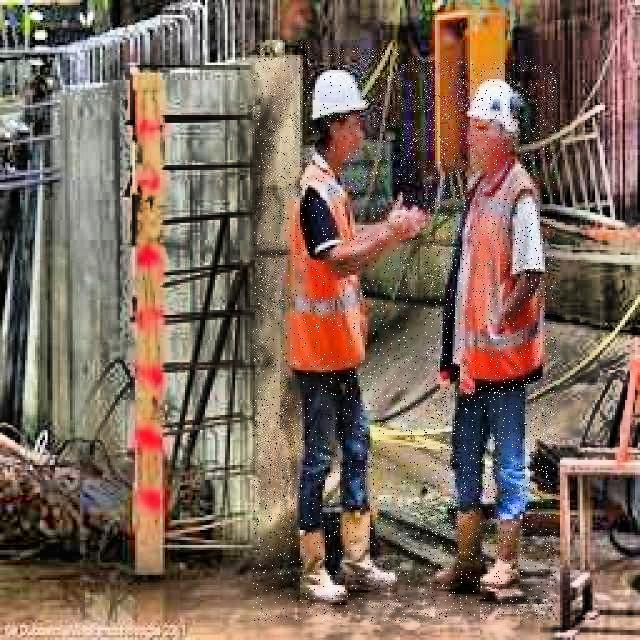safety_helmet: (301, 66, 379, 129), (461, 71, 531, 141)
safety_jacket: (433, 155, 555, 400), (279, 145, 381, 383)
